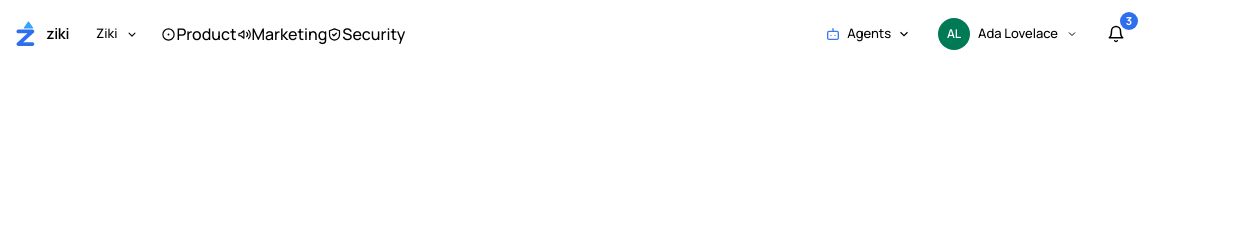
Test: notification preview (#615) › toggles without navigation and preserves the tooltip and unread label
The width and height of the screenshot is (1257, 234).
Click the button named "Notifications, 3 unread".
click(1116, 34)  # box [1098, 16, 1134, 52]
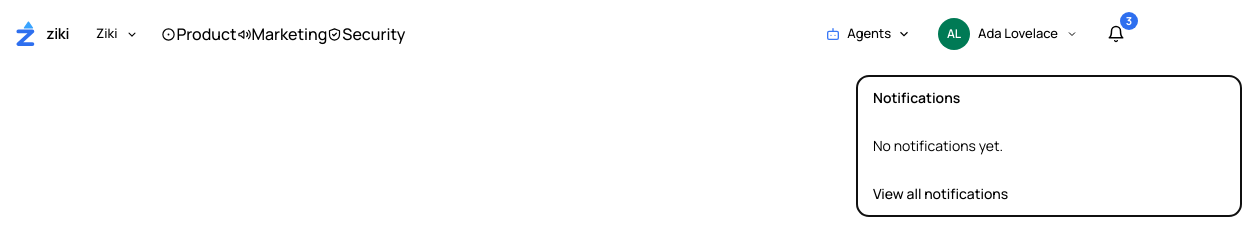
Now the text "No notifications yet." is shown, box [873, 136, 1003, 155]
Click the button named "Notifications, 3 unread".
click(1116, 34)  # box [1098, 16, 1134, 52]
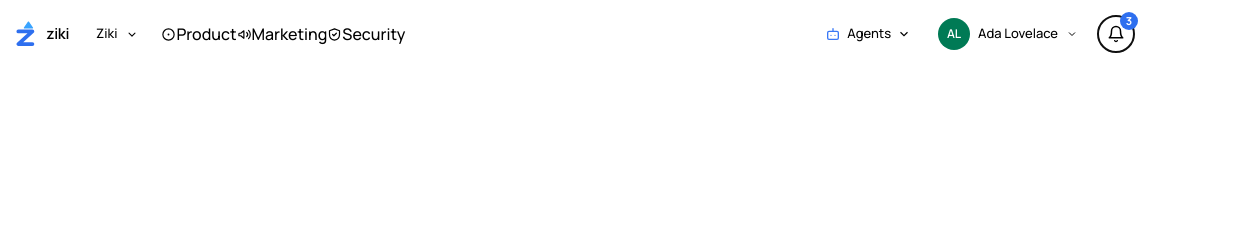
Now the button named "Notifications, 3 unread" is collapsed, box [1098, 16, 1134, 52]
